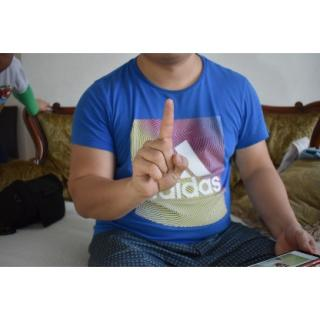BAA: (127, 95, 190, 200)
